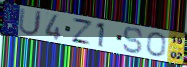1: (94, 21, 106, 49)
4: (44, 13, 63, 41)
O: (146, 31, 167, 58)
S: (123, 26, 145, 55)
U: (17, 7, 43, 37)
Z: (70, 16, 94, 47)
